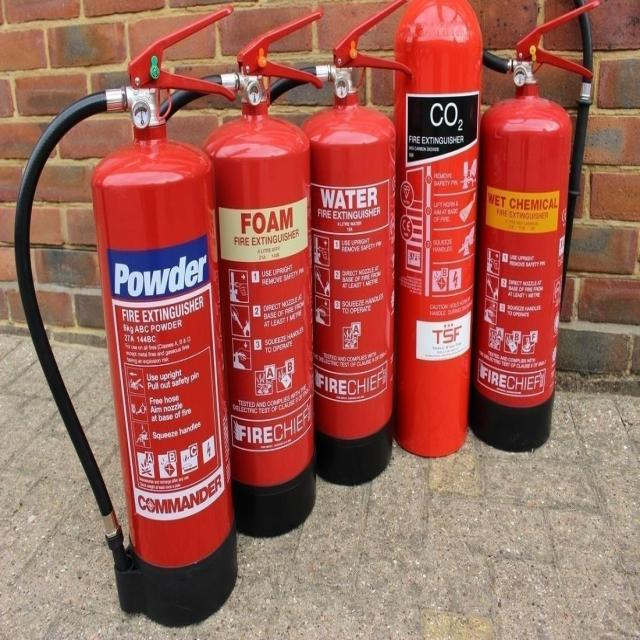fire_extinguisher: (8, 0, 244, 630), (122, 6, 328, 542), (240, 0, 415, 490), (430, 0, 595, 457), (384, 0, 486, 466)
